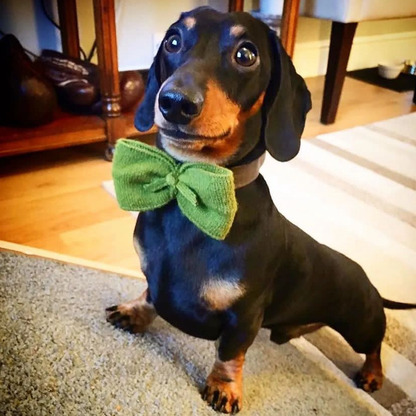dachshund: (113, 6, 401, 390)
